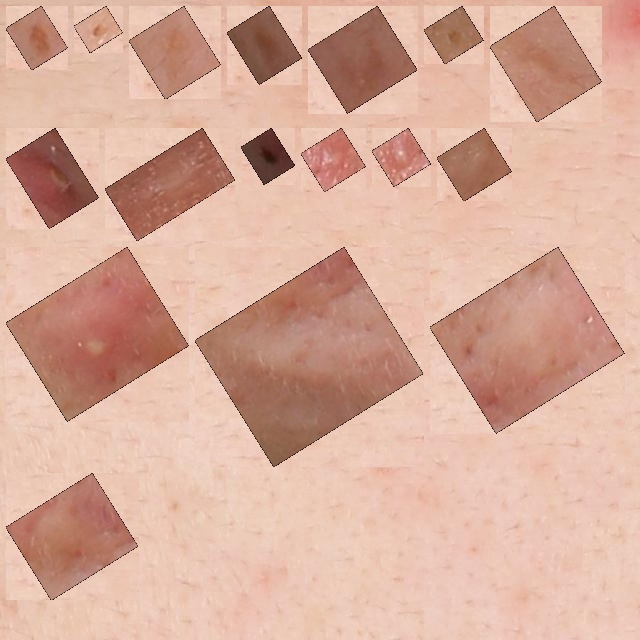hypertrophic_scar: (206, 258, 412, 456), (441, 258, 613, 422), (17, 484, 127, 589), (116, 139, 224, 230), (448, 139, 500, 190)
melasma: (501, 17, 591, 111), (319, 17, 406, 102), (140, 17, 210, 88), (238, 17, 291, 73), (17, 17, 57, 59), (435, 17, 472, 53)
nevus: (252, 139, 284, 173)
pustule: (17, 258, 178, 410), (17, 139, 88, 217), (312, 139, 355, 181), (383, 139, 420, 175)
